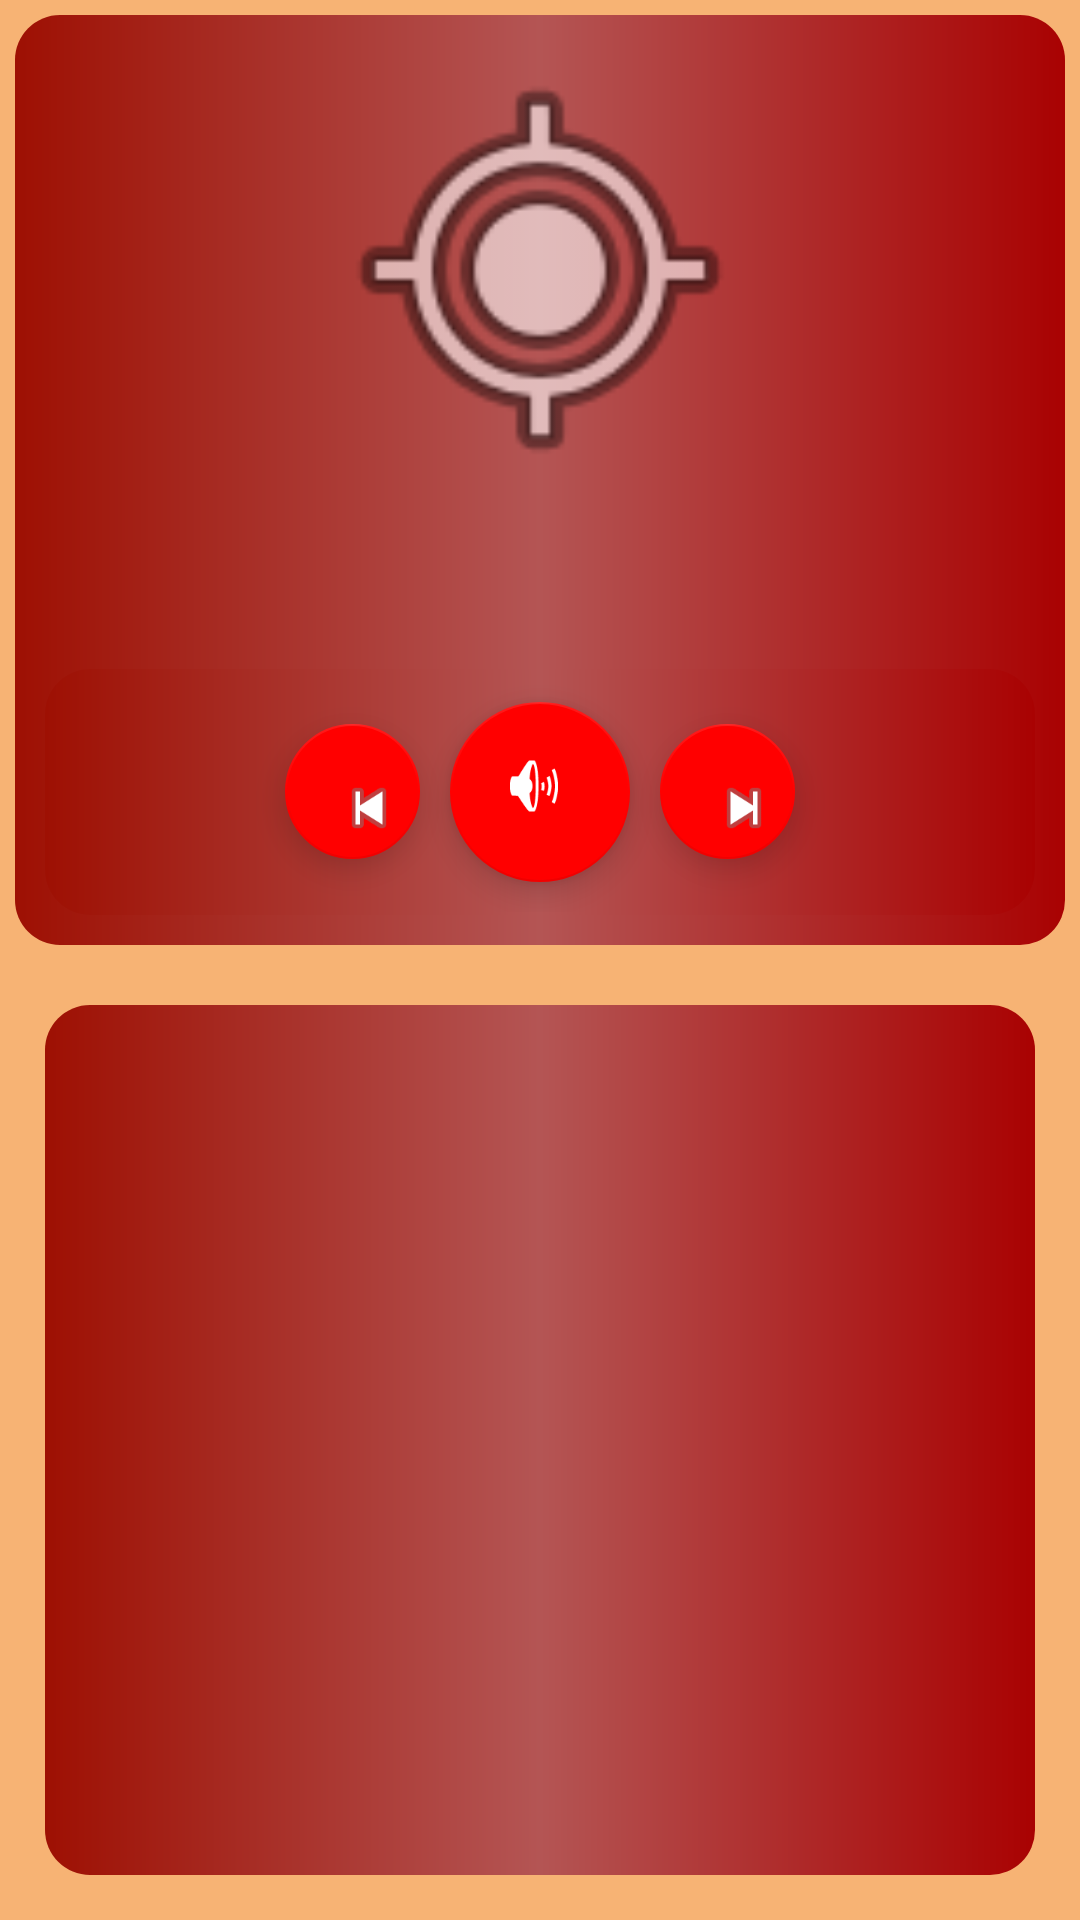

Named icons in this screenshot (1080*1920) and their centers, [x,y]:
next: [727,791]
previous: [352,791]
